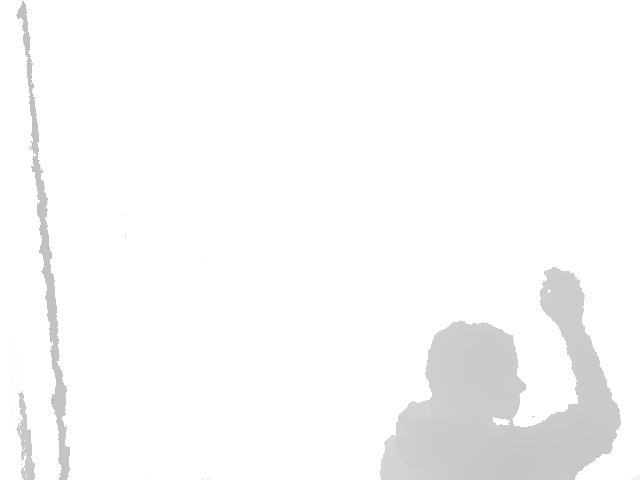hand: (538, 266, 586, 328)
head: (426, 320, 527, 422)
person: (379, 266, 623, 480)
